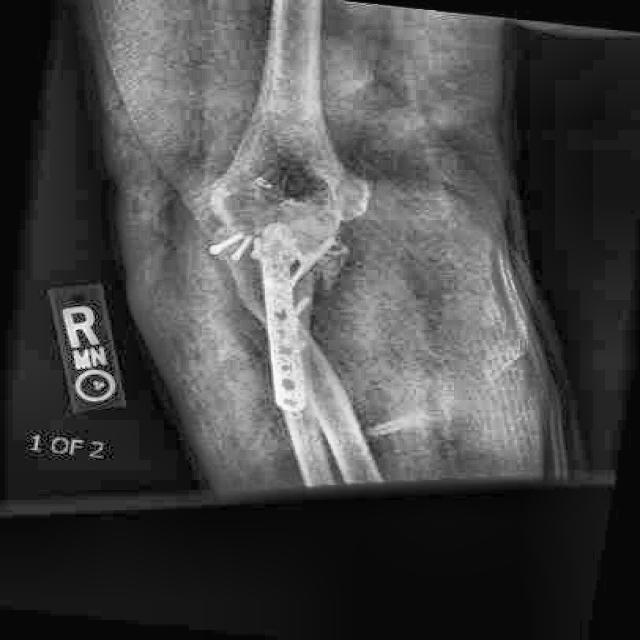elbow positive: (308, 161, 398, 236)
